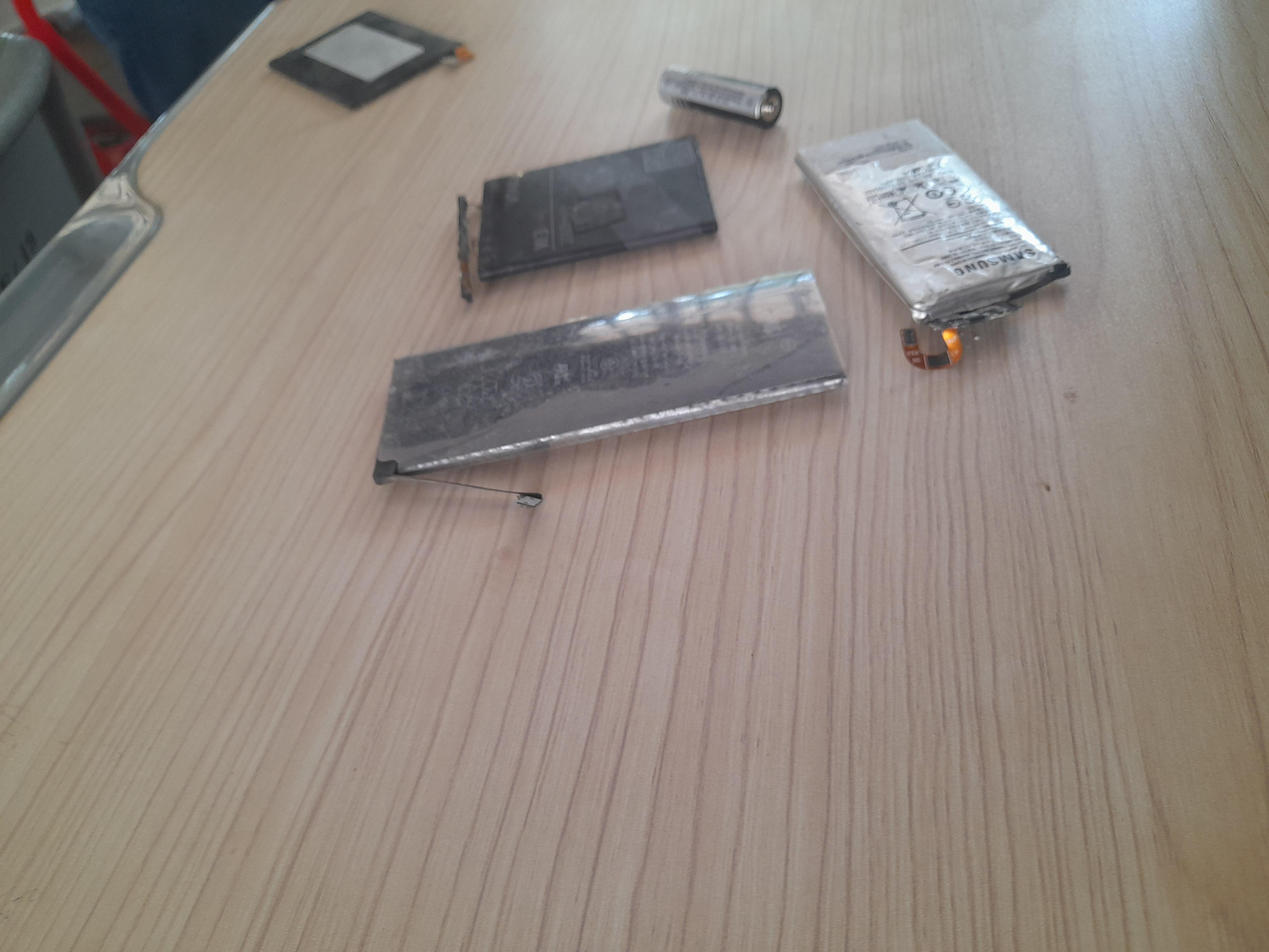AA: (654, 51, 790, 140)
